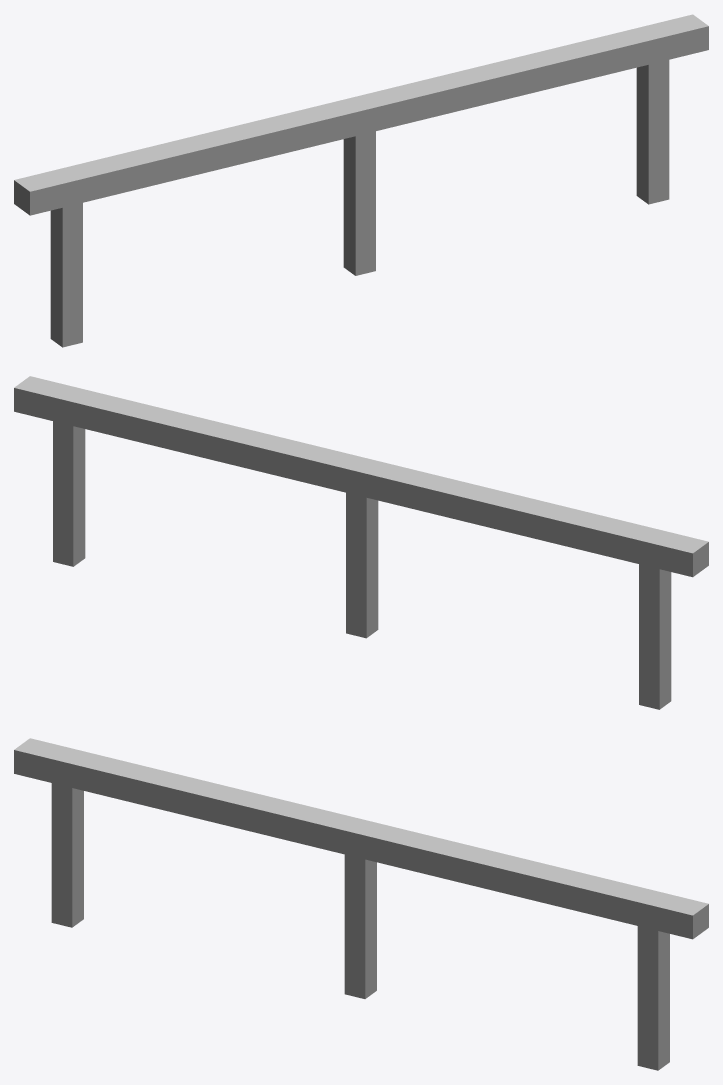
File: rail_001.fbx
3 renders of one model, top to bottom at view 1: azimuth 30°, elevation 25°; view 2: azimuth 150°, elevation 25°; view 3: azimuth 330°, elevation 25°, orthographic.
Parts seen in each view (by area): view 1: rail_001; view 2: rail_001; view 3: rail_001.
Boxes of the visible parts, <box> form: rail_001: <box>14,14,708,347</box>; rail_001: <box>14,376,708,709</box>; rail_001: <box>14,738,708,1070</box>.
Bounding box in the file's own units: 278 × 65.03 × 11.39.
